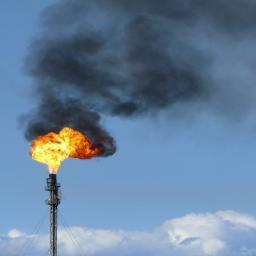fire: (29, 127, 101, 174)
smoke: (14, 0, 256, 158)
